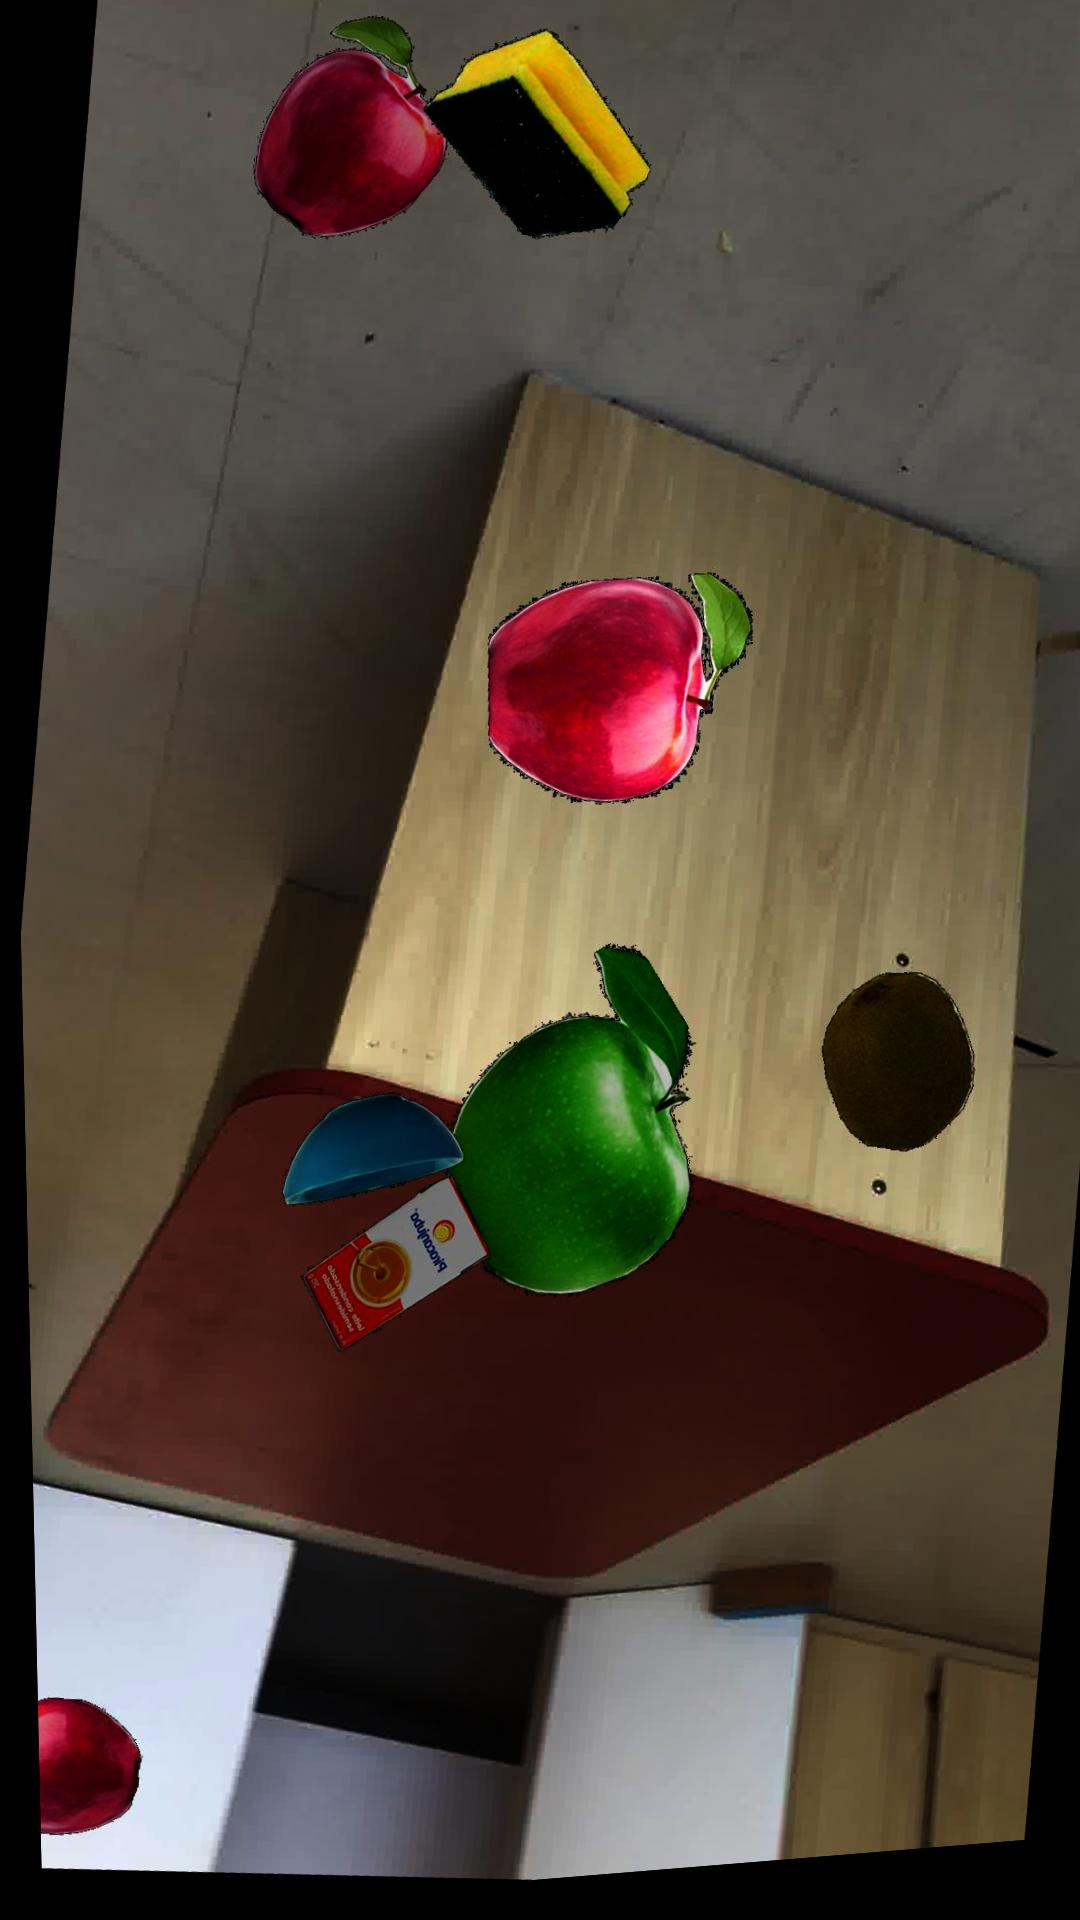apple: (483, 587, 748, 815), (252, 24, 446, 244), (30, 1700, 132, 1836)
bowl: (274, 1101, 458, 1211)
green apple: (438, 956, 687, 1308)
kiwi: (815, 989, 968, 1168)
sponge: (422, 40, 647, 249)
